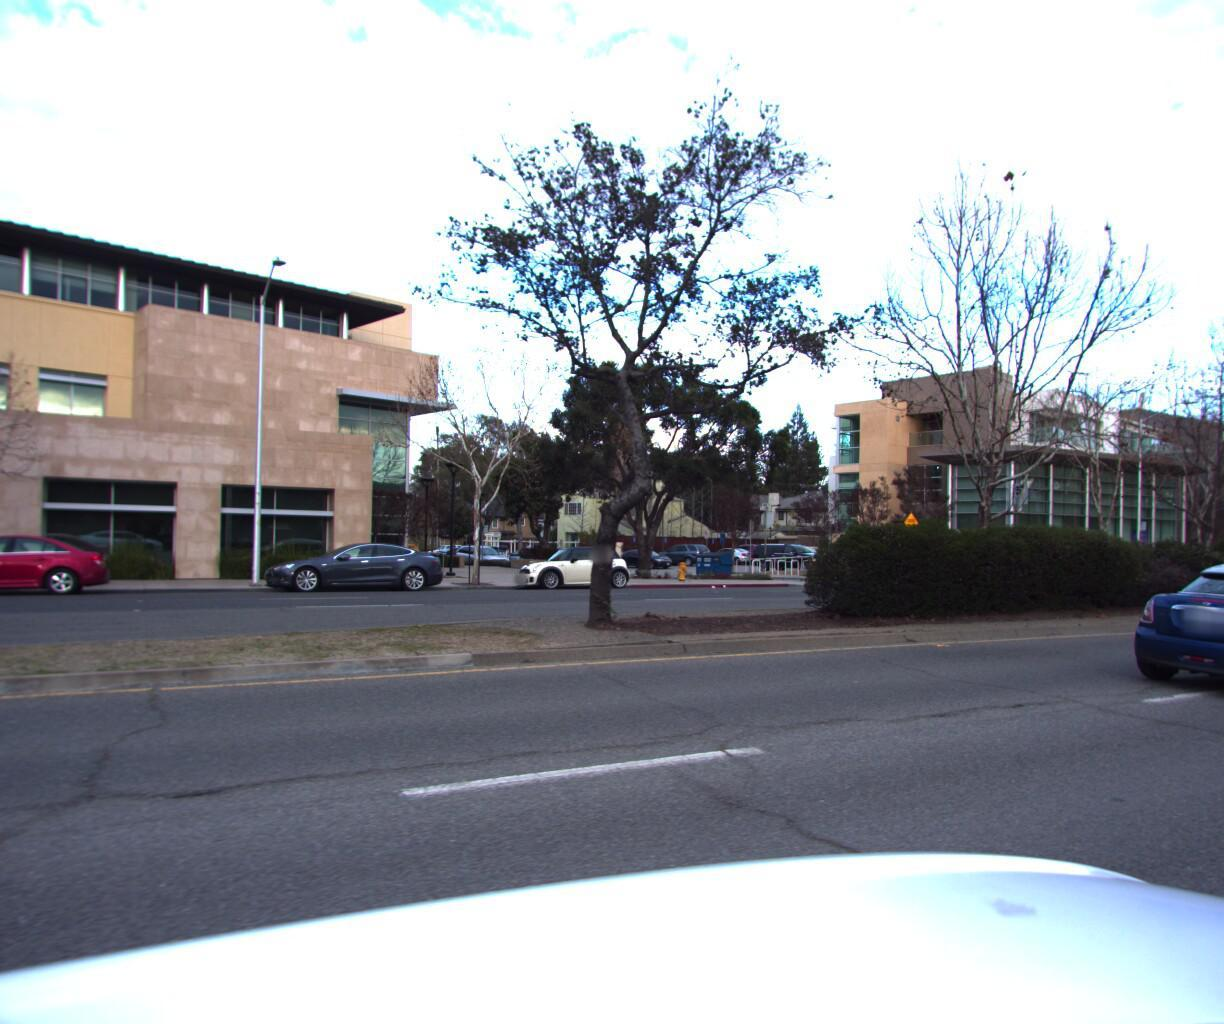car: (1109, 548, 1224, 709), (259, 536, 444, 594), (0, 529, 115, 599), (506, 540, 636, 589)
